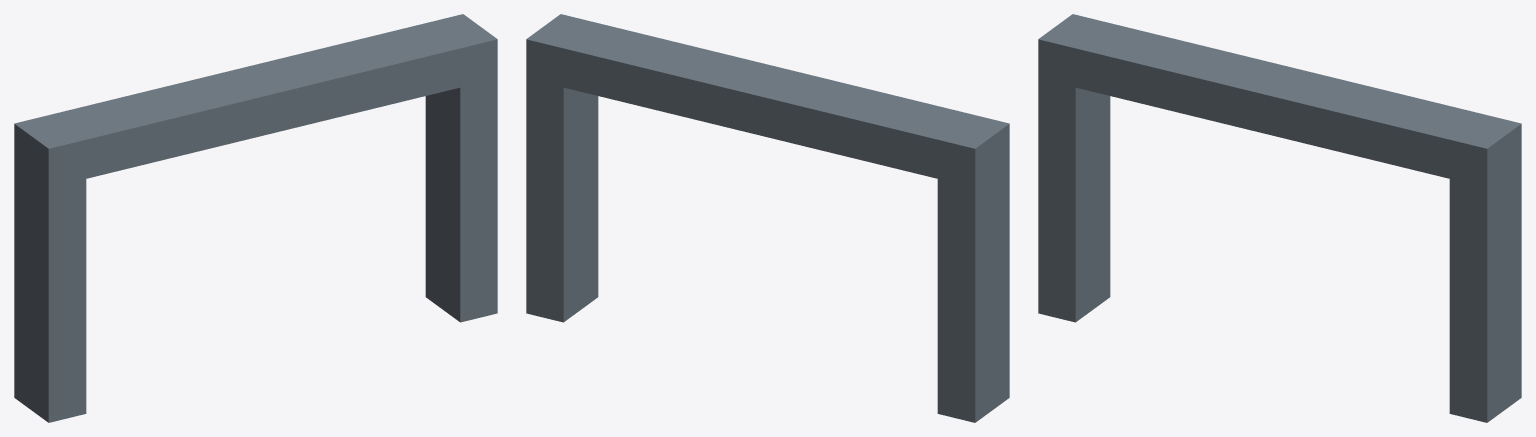
File: Gate5Frame.gltf
3 views of the same model, side by side, from view 1: azimuth 30°, elevation 25°; view 2: azimuth 150°, elevation 25°; view 3: azimuth 330°, elevation 25° (orthographic).
Parts seen in each view (by area): view 1: GateVisual; view 2: GateVisual; view 3: GateVisual.
Part boxes in pixels (x1=…): GateVisual: x1=14, y1=14, x2=497, y2=422; GateVisual: x1=526, y1=14, x2=1009, y2=422; GateVisual: x1=1038, y1=14, x2=1521, y2=422.
Size of what is drawn, in the model's own units: 6 by 3.5 by 0.8.
